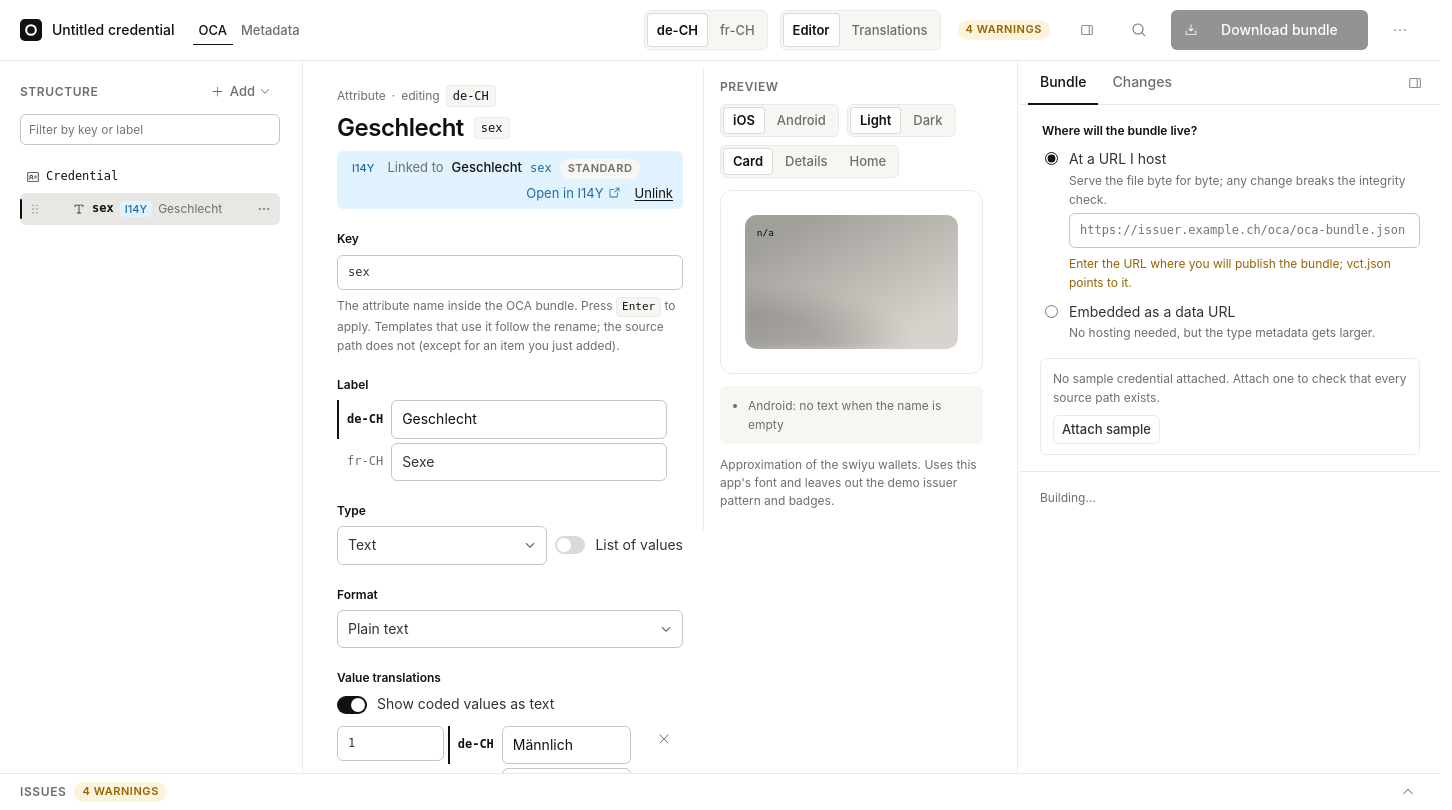
it: I14Y link › marks an edited label and resets it to I14Y
Clear the dropdown labelled "Label". click: (529, 420)
box: [391, 400, 667, 439]
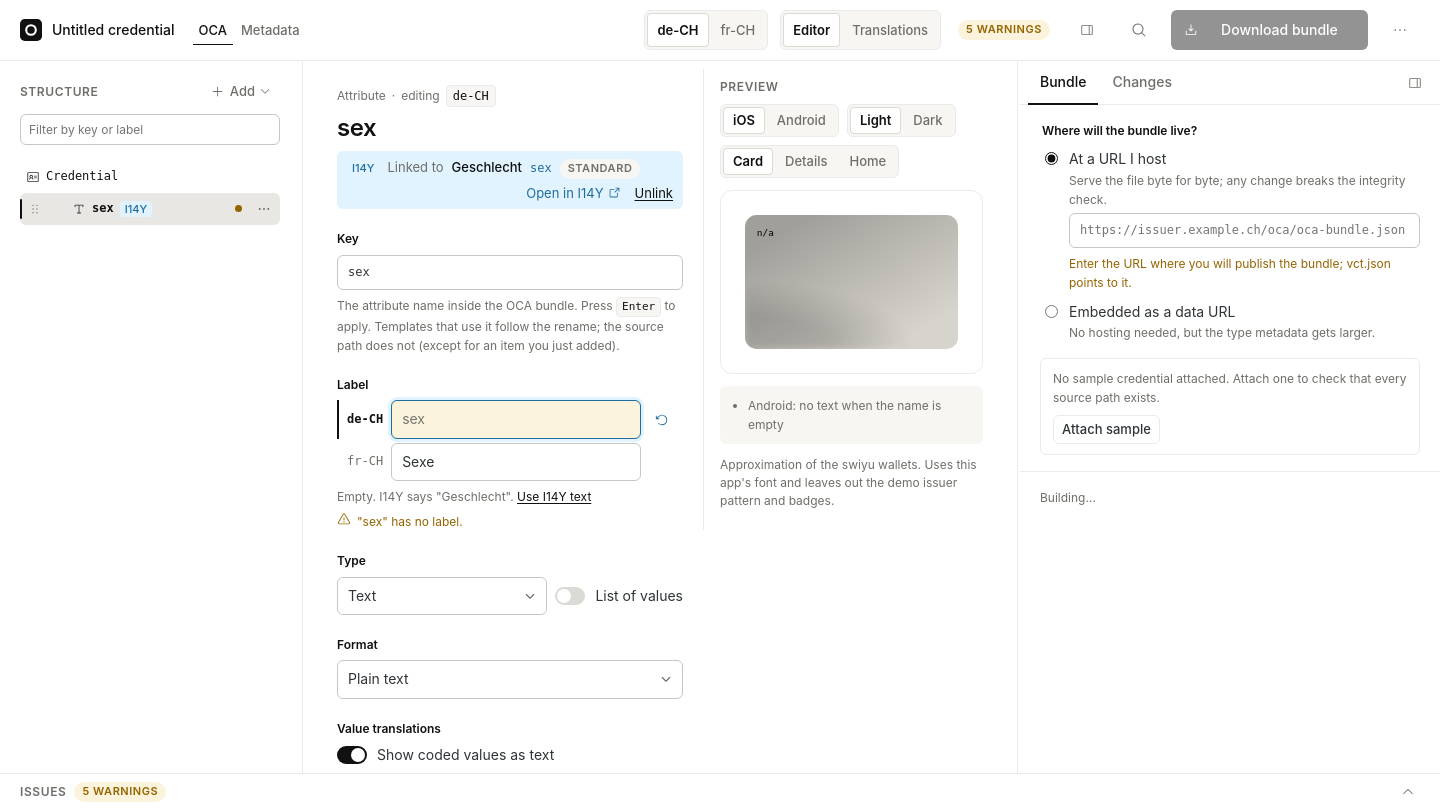
Type "Gender" into the dropdown labelled "Label". click: (516, 420)
box: [391, 400, 641, 439]
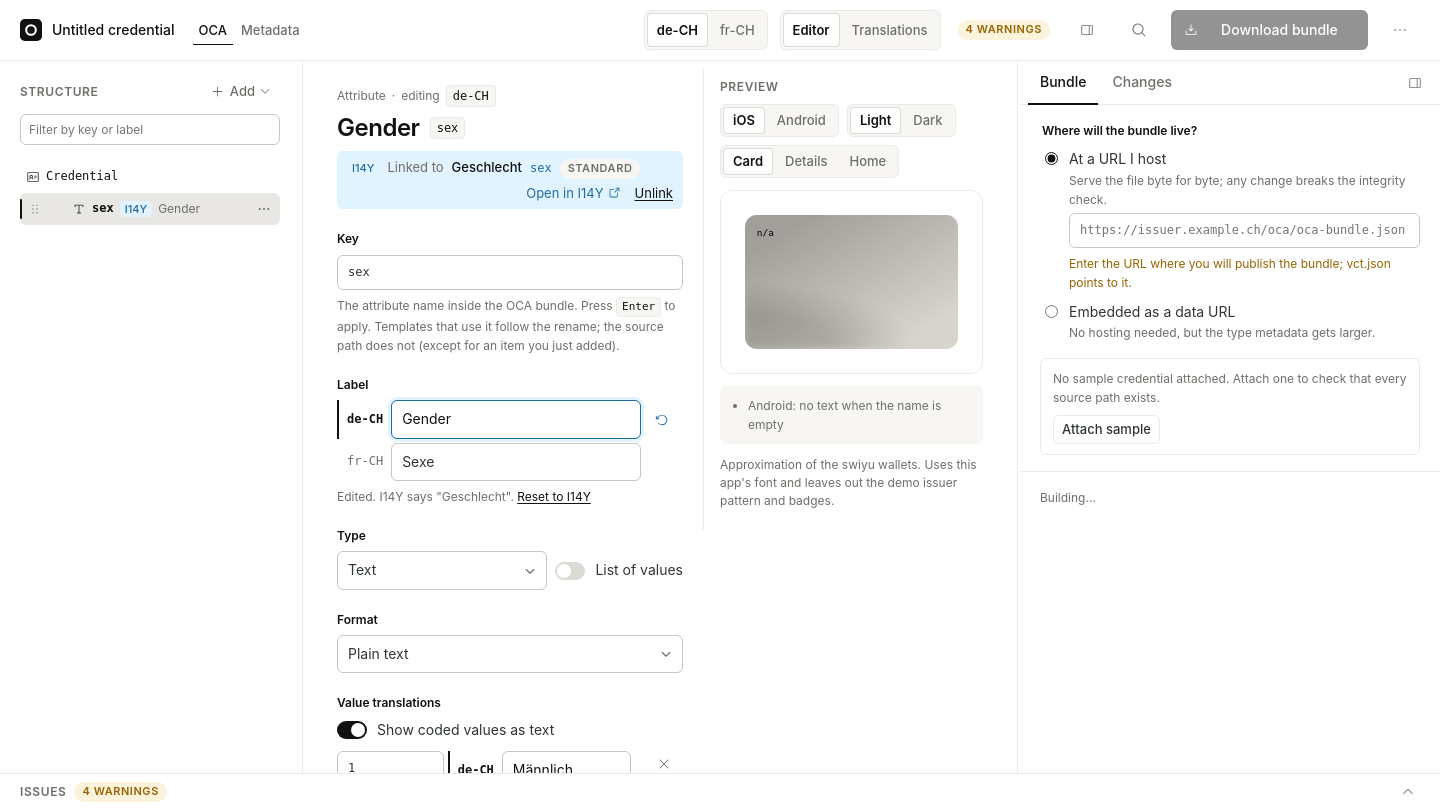
Result: the text "Edited. I14Y says \"Geschlecht\"." is shown at [337, 489, 514, 504]
Click the button "Reset to I14Y". click: (554, 497)
box: [517, 487, 591, 506]
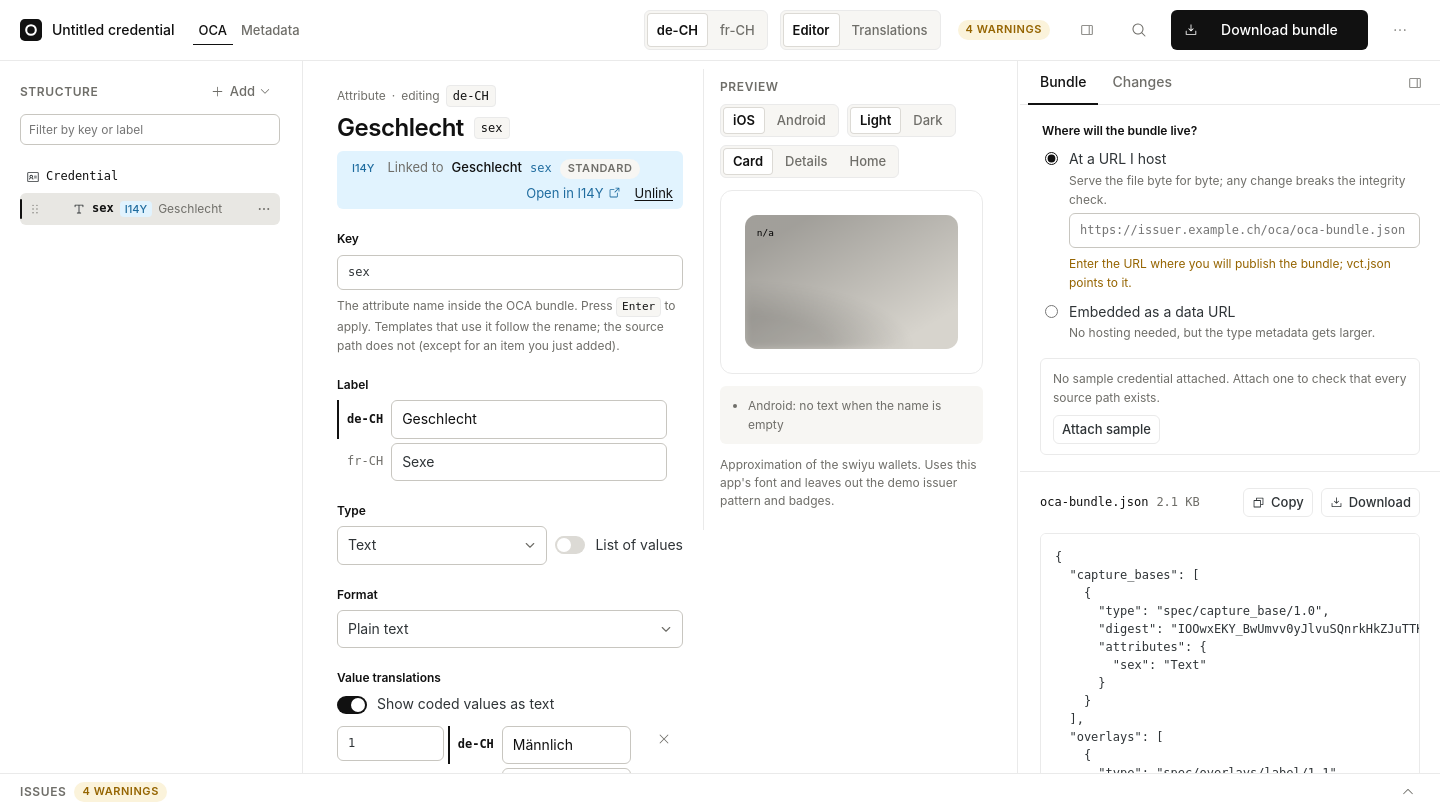
Result: the text "Geschlecht" below "Structure" is shown at [158, 201, 222, 216]
Result: the text "I14Y says" is gone
